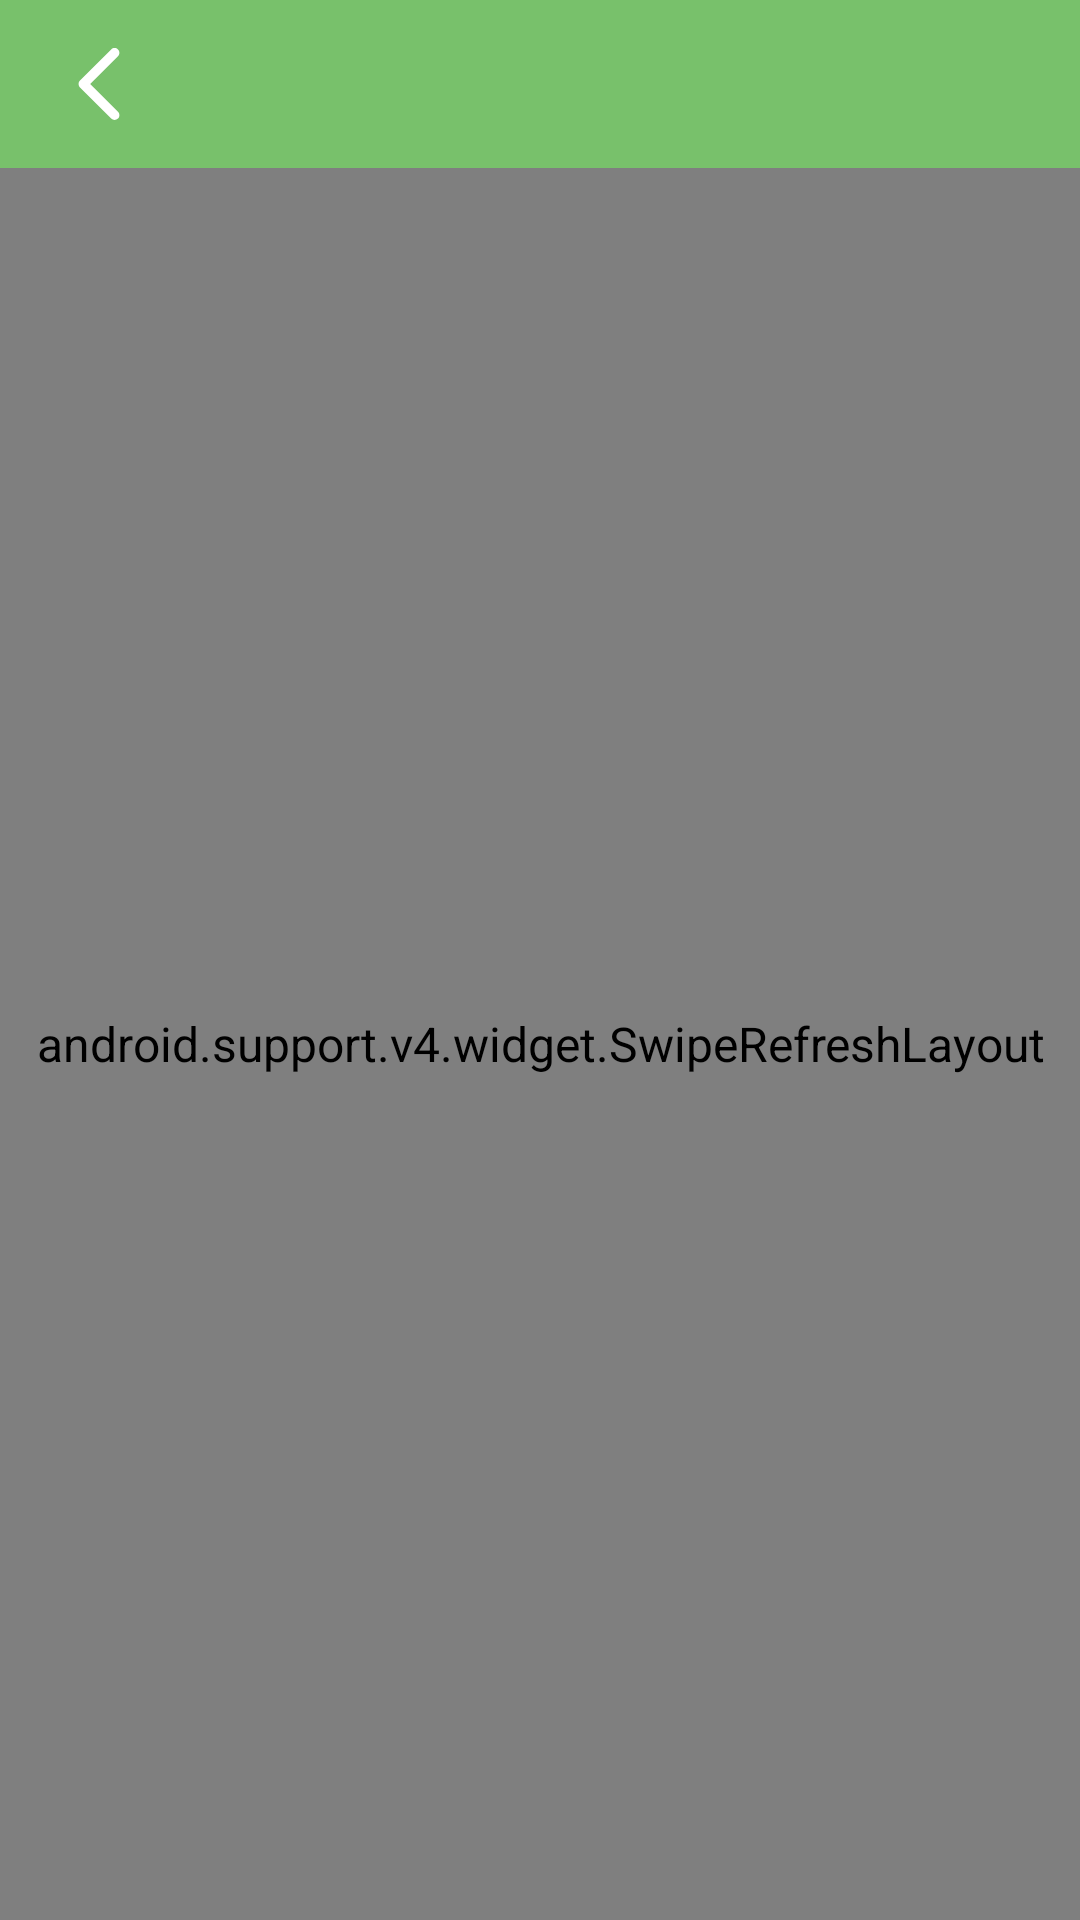

Icons on this 1080×1920 Android screen, each with the point to tap as [x,y]:
back: [99,84]
